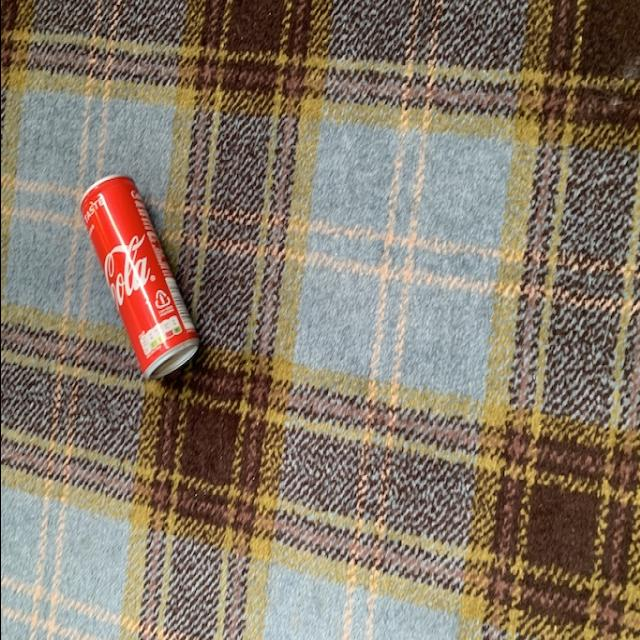Aluminum Can: (74, 170, 198, 382)
